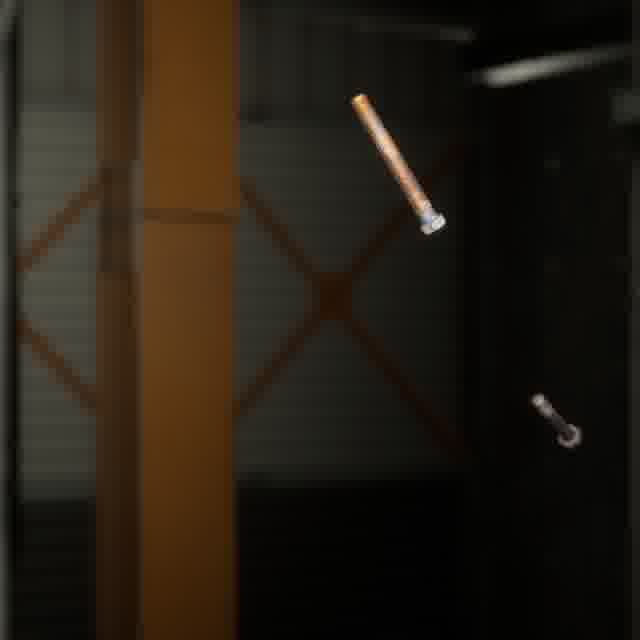bolt: (346, 88, 450, 239), (526, 389, 586, 454)
